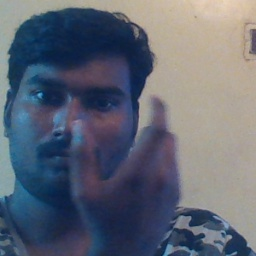U: (71, 89, 180, 237)
